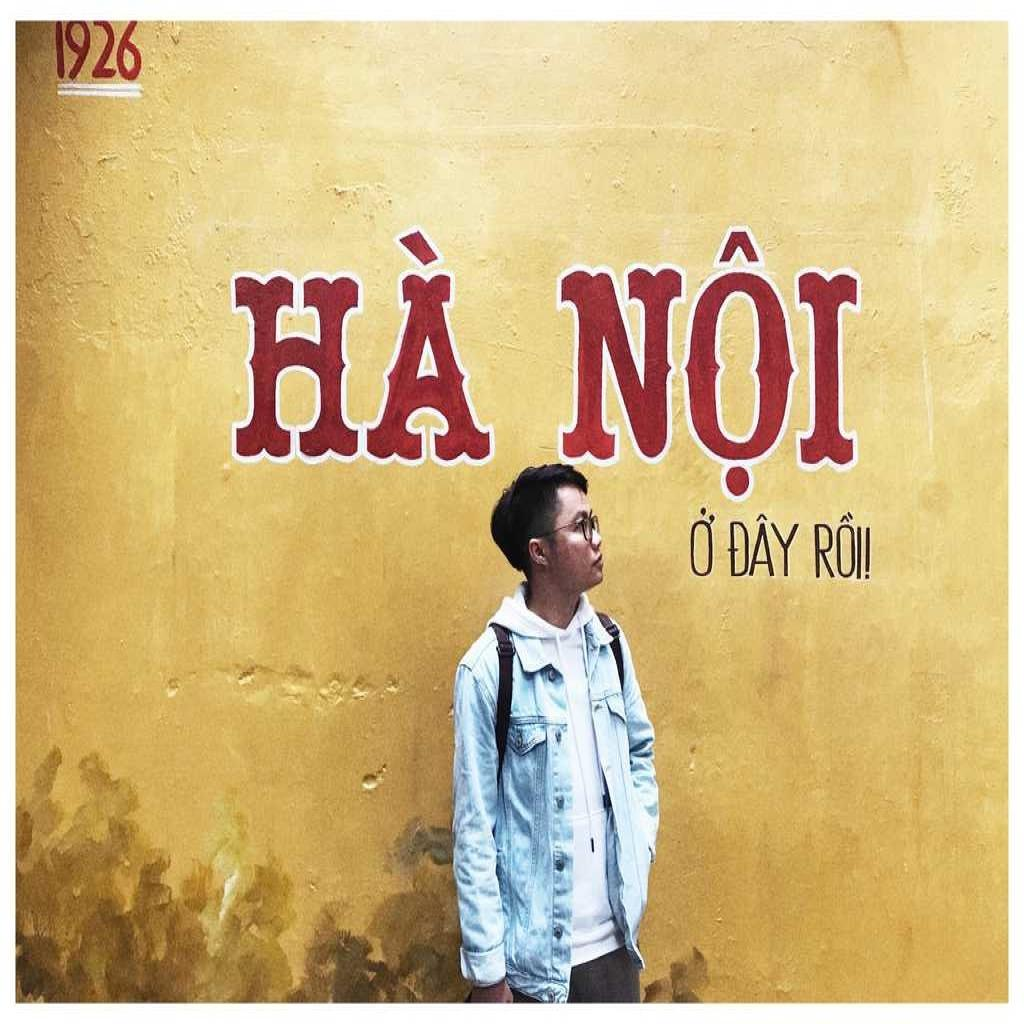text: (536, 213, 871, 507), (218, 209, 515, 495), (47, 22, 148, 90), (726, 505, 801, 591), (685, 504, 720, 588)
